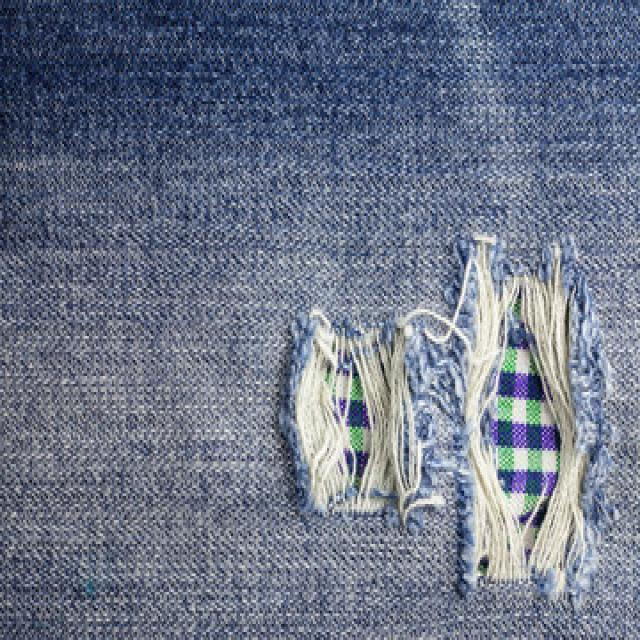Hole: (464, 263, 607, 596), (282, 311, 424, 524)
